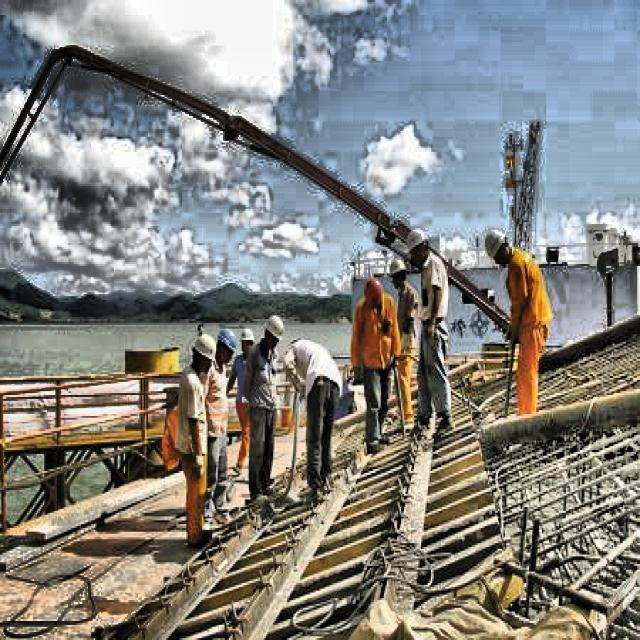helmet: (478, 226, 512, 270), (189, 329, 216, 376), (401, 224, 430, 262), (358, 272, 384, 312), (215, 323, 238, 368), (259, 312, 286, 349), (386, 254, 409, 288), (240, 325, 260, 359)
